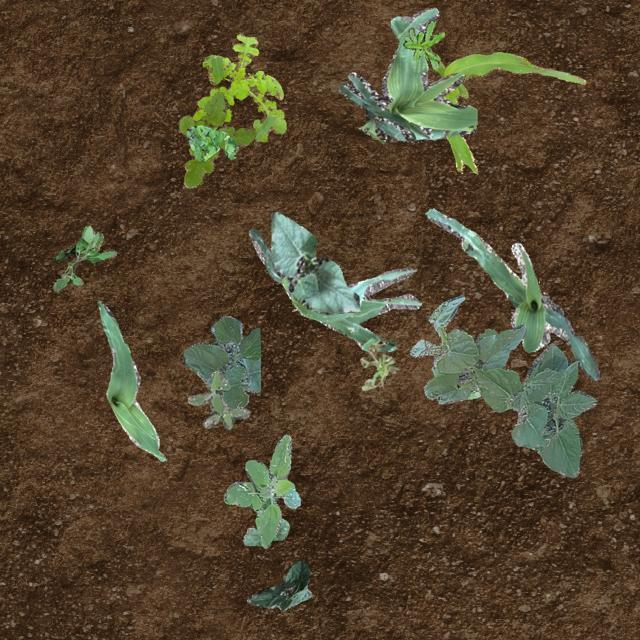crop: (408, 294, 596, 476), (424, 208, 598, 380), (248, 228, 420, 350), (338, 6, 476, 140), (434, 51, 584, 172), (96, 300, 164, 460), (270, 212, 358, 314), (182, 314, 260, 408), (246, 560, 310, 608), (242, 518, 288, 544)
weed: (192, 34, 286, 140), (222, 433, 300, 548), (178, 90, 254, 186), (51, 223, 116, 290), (187, 371, 250, 428), (466, 328, 496, 398), (402, 20, 444, 68), (359, 338, 398, 389), (186, 124, 238, 160)
